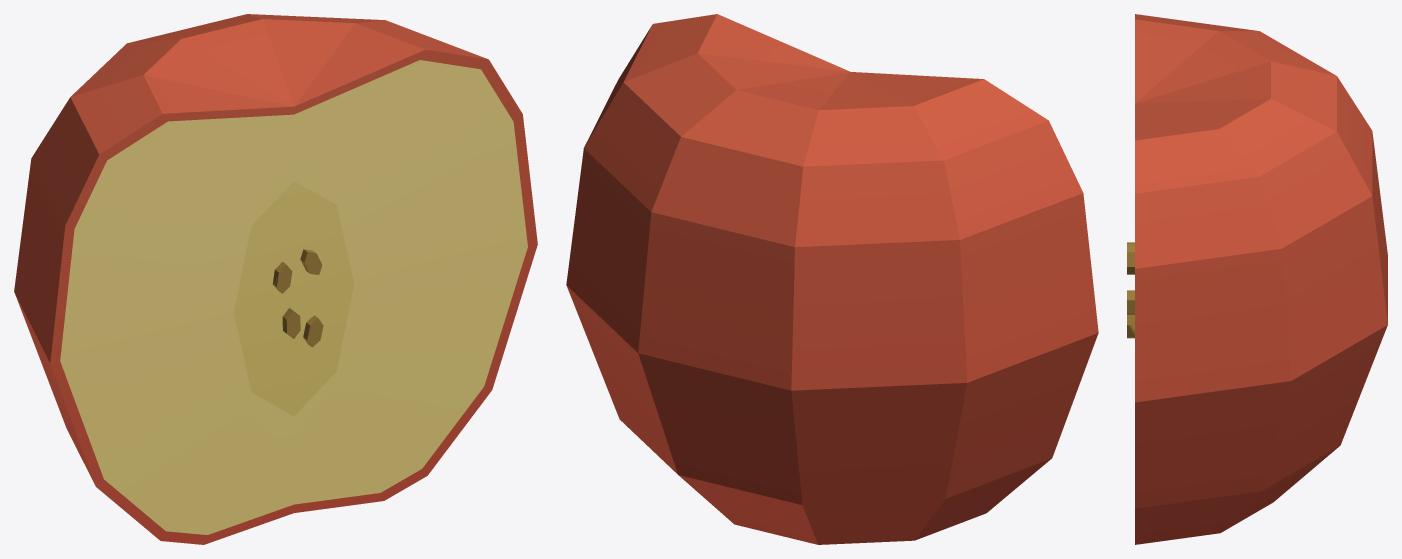
Rendered from apple_1b.glb.
3 views of the same model, side by side, from view 1: azimuth 30°, elevation 25°; view 2: azimuth 150°, elevation 25°; view 3: azimuth 270°, elevation 25° (orthographic). The views are drawn at different scales.
Visible parts, largest first — view 1: apple_1b; view 2: apple_1b; view 3: apple_1b.
Boxes of the visible parts, <box> form: apple_1b: <box>14,14,537,544</box>; apple_1b: <box>566,14,1098,544</box>; apple_1b: <box>1127,14,1387,544</box>.
Bounding box in the file's own units: 0.1169 × 0.1011 × 0.0573.
1 material, 1 textured.
